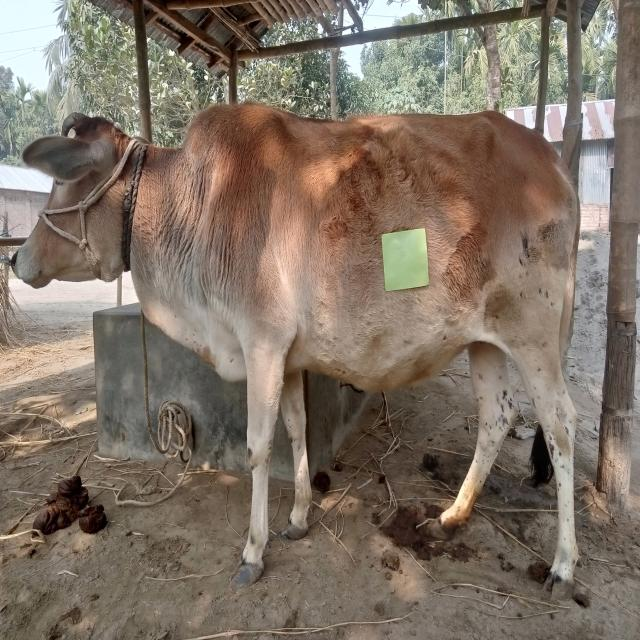badan_sapi: (236, 117, 571, 383)
sapi: (8, 80, 592, 610)
